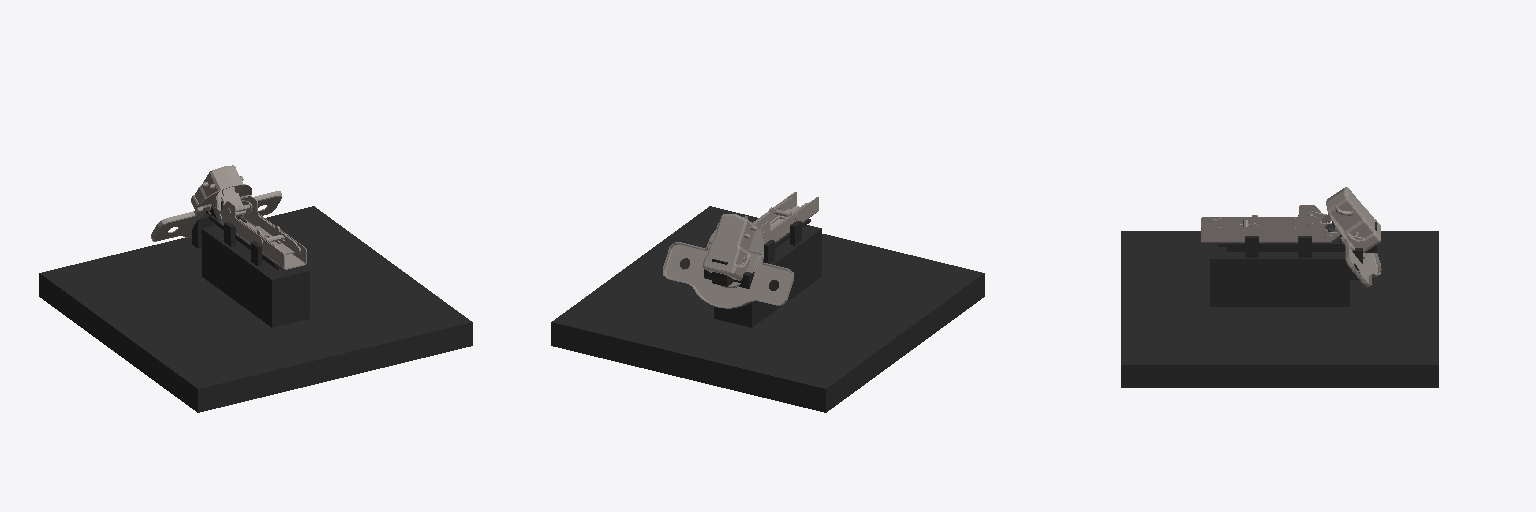
File: PalletWithHinge.obj
The picture shows the model from 3 angles: view 1: azimuth 30°, elevation 25°; view 2: azimuth 150°, elevation 25°; view 3: azimuth 270°, elevation 25°; orthographic projection.
Parts seen in each view (by area): view 1: Pallet, _[number redacted], _[number redacted]; view 2: Pallet, _[number redacted], _[number redacted]; view 3: Pallet, _[number redacted], _[number redacted].
Part boxes in pixels (x1,y1,x2,y2): Pallet: (39,201,472,412); _[number redacted]: (151,165,281,241); _[number redacted]: (202,176,306,269); Pallet: (551,206,984,412); _[number redacted]: (663,214,793,308); _[number redacted]: (716,192,818,243); Pallet: (1121,222,1438,387); _[number redacted]: (1201,205,1352,242); _[number redacted]: (1307,187,1381,287).
Bounding box in the file's own units: 180 × 82.09 × 180.